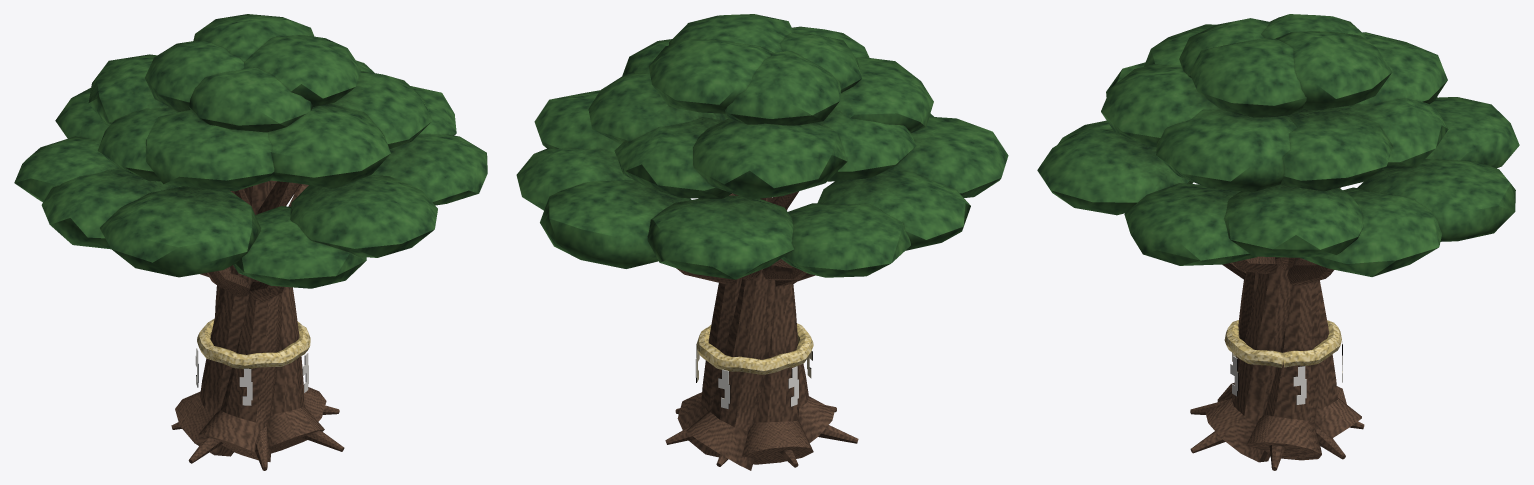
Rendered from sacred_tree.fbx.
3 views of the same model, side by side, from view 1: azimuth 30°, elevation 25°; view 2: azimuth 150°, elevation 25°; view 3: azimuth 270°, elevation 25° (orthographic). The views are drawn at different scales.
Parts seen in each view (by area): view 1: sacred_tree; view 2: sacred_tree; view 3: sacred_tree.
Part boxes in pixels (<box>): sacred_tree: <box>14,14,487,470</box>; sacred_tree: <box>516,14,1008,470</box>; sacred_tree: <box>1037,14,1519,470</box>.
Bounding box in the file's own units: 4451 × 4367 × 4519.
Materials: 1 (1 with a texture image).
